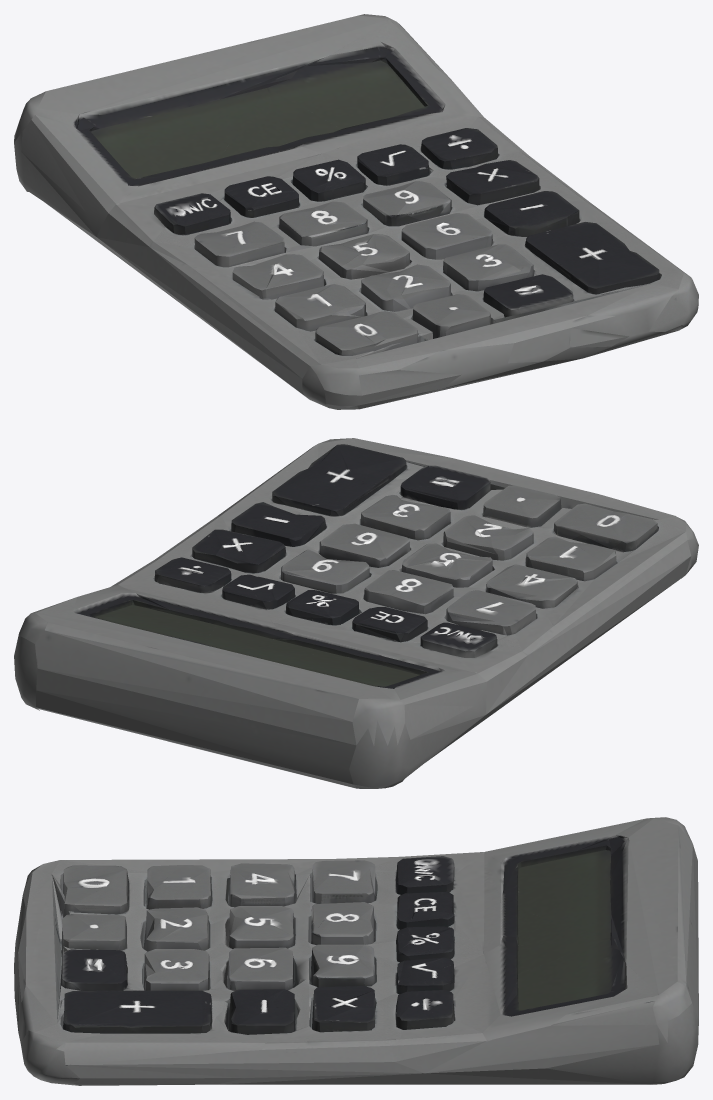
File: remeshed-calc.glb
3 views of the same model, one above another, from view 1: azimuth 30°, elevation 25°; view 2: azimuth 150°, elevation 25°; view 3: azimuth 270°, elevation 25° (orthographic). The views are drawn at different scales.
Parts seen in each view (by area): view 1: output_unwrapped; view 2: output_unwrapped; view 3: output_unwrapped.
Part boxes in pixels (box(x1,y1,x2,y2)): output_unwrapped: box(14, 14, 698, 409); output_unwrapped: box(14, 438, 698, 788); output_unwrapped: box(14, 817, 698, 1085).
Bounding box in the file's own units: 1.28 × 0.2773 × 1.9.
1 material, 1 textured.
